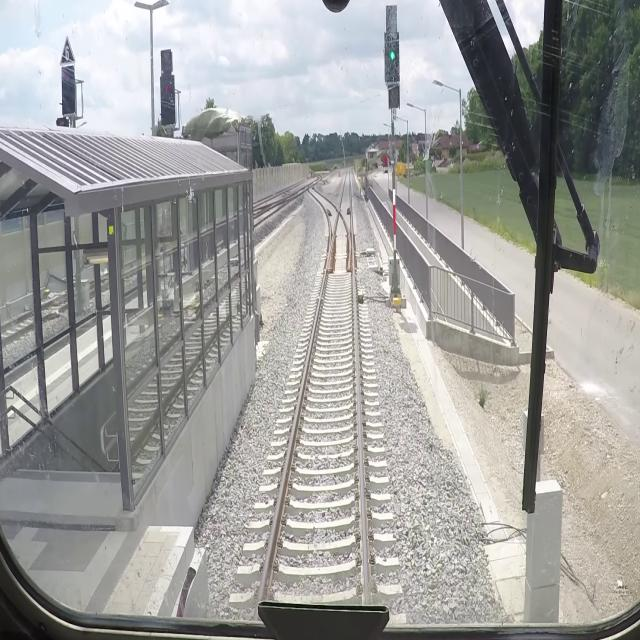rail-track: (263, 166, 364, 596), (254, 173, 327, 225), (308, 185, 337, 241), (267, 196, 285, 204)
